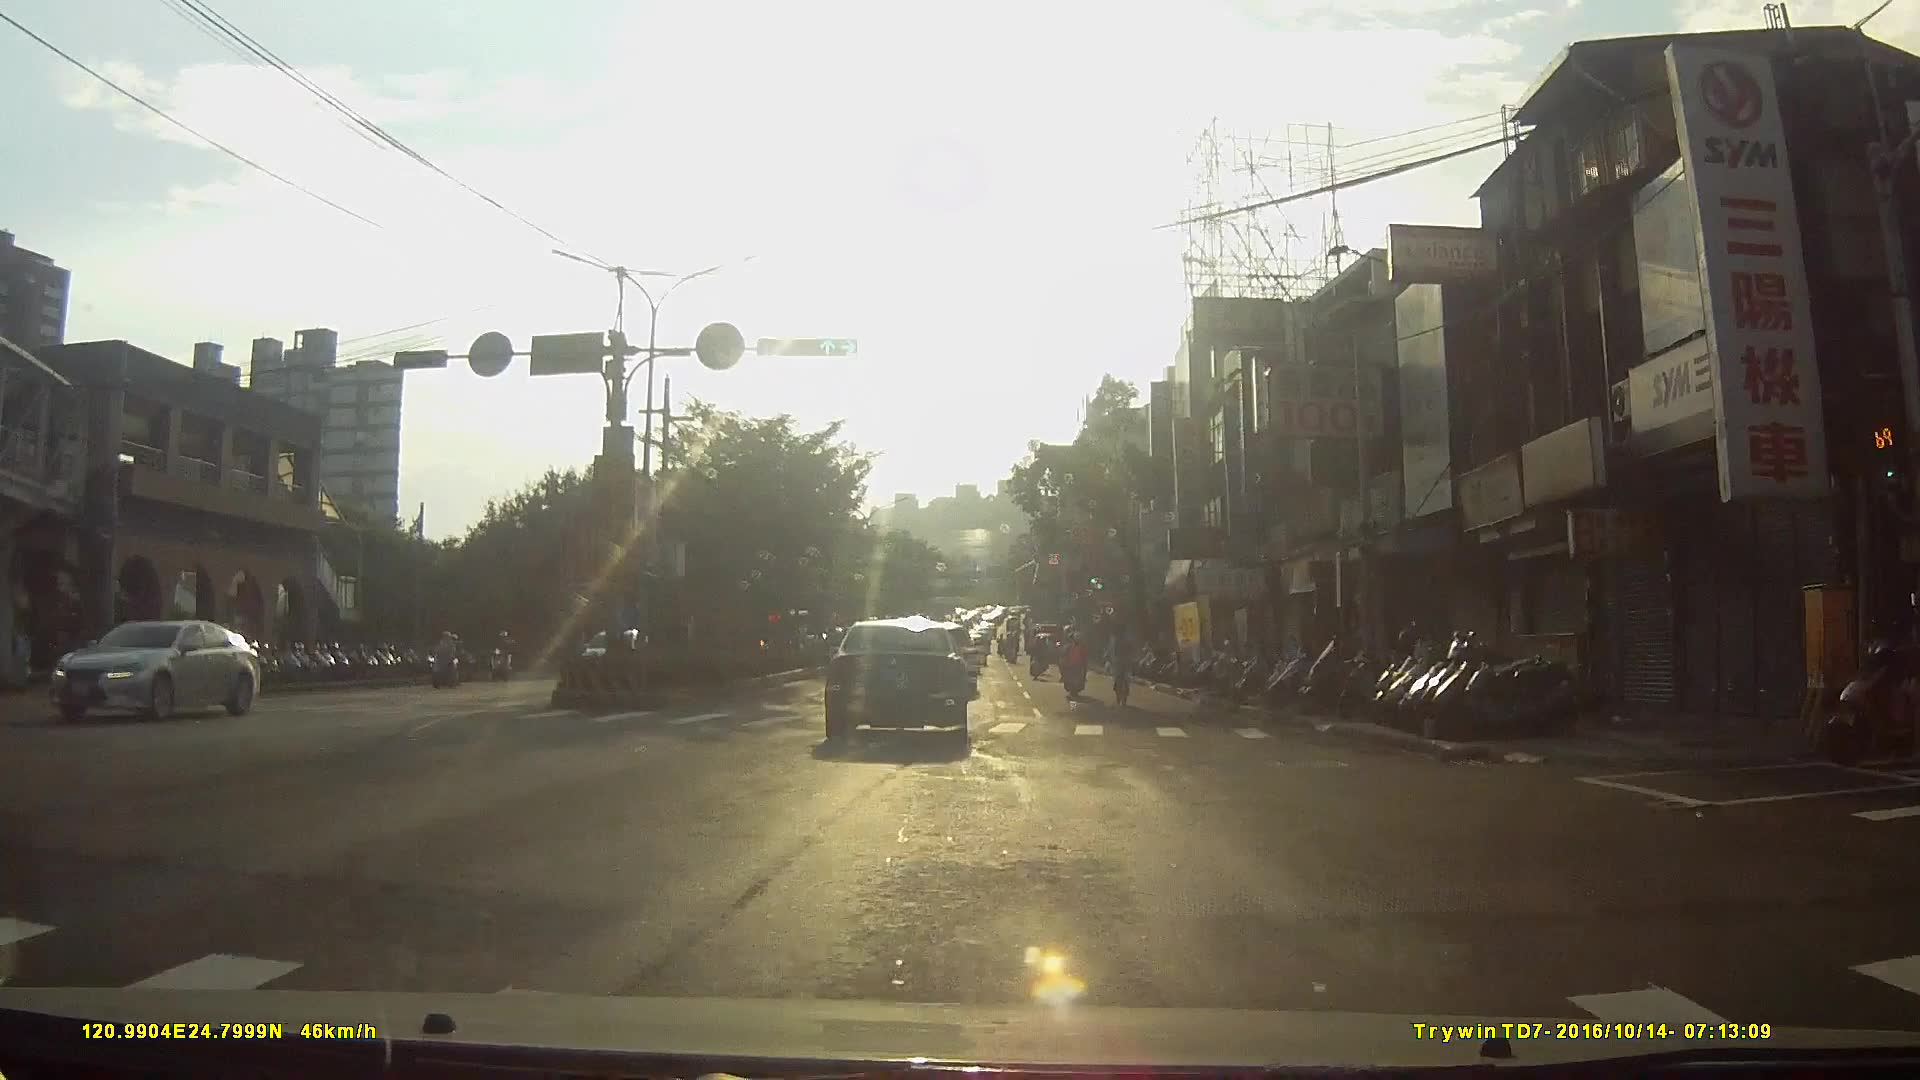rider: (1107, 624, 1135, 713), (431, 631, 461, 691), (1061, 634, 1088, 702), (487, 630, 517, 685), (1027, 631, 1052, 683)
vehicle: (57, 615, 255, 729), (828, 608, 987, 750)
